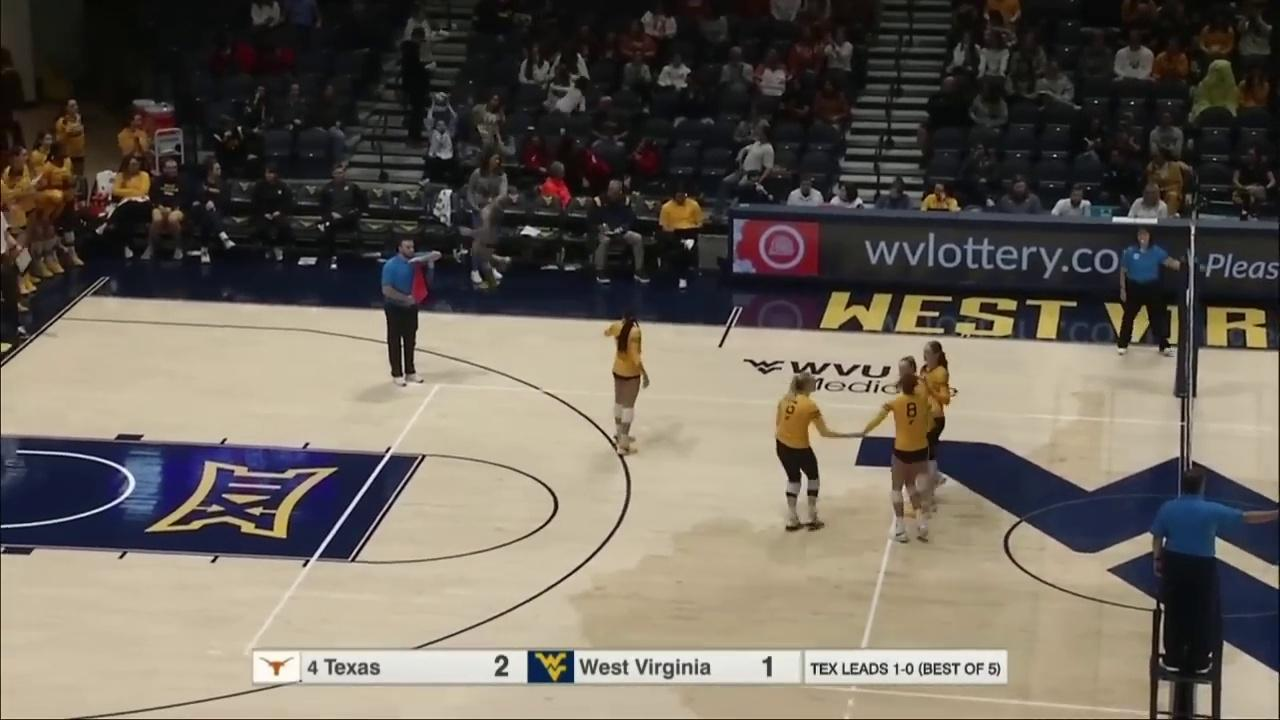player: (774, 373, 861, 533), (864, 375, 933, 541), (886, 356, 937, 515), (605, 307, 649, 453), (917, 341, 953, 495)
refree: (1149, 470, 1280, 671), (384, 241, 444, 383), (1117, 231, 1185, 354)
